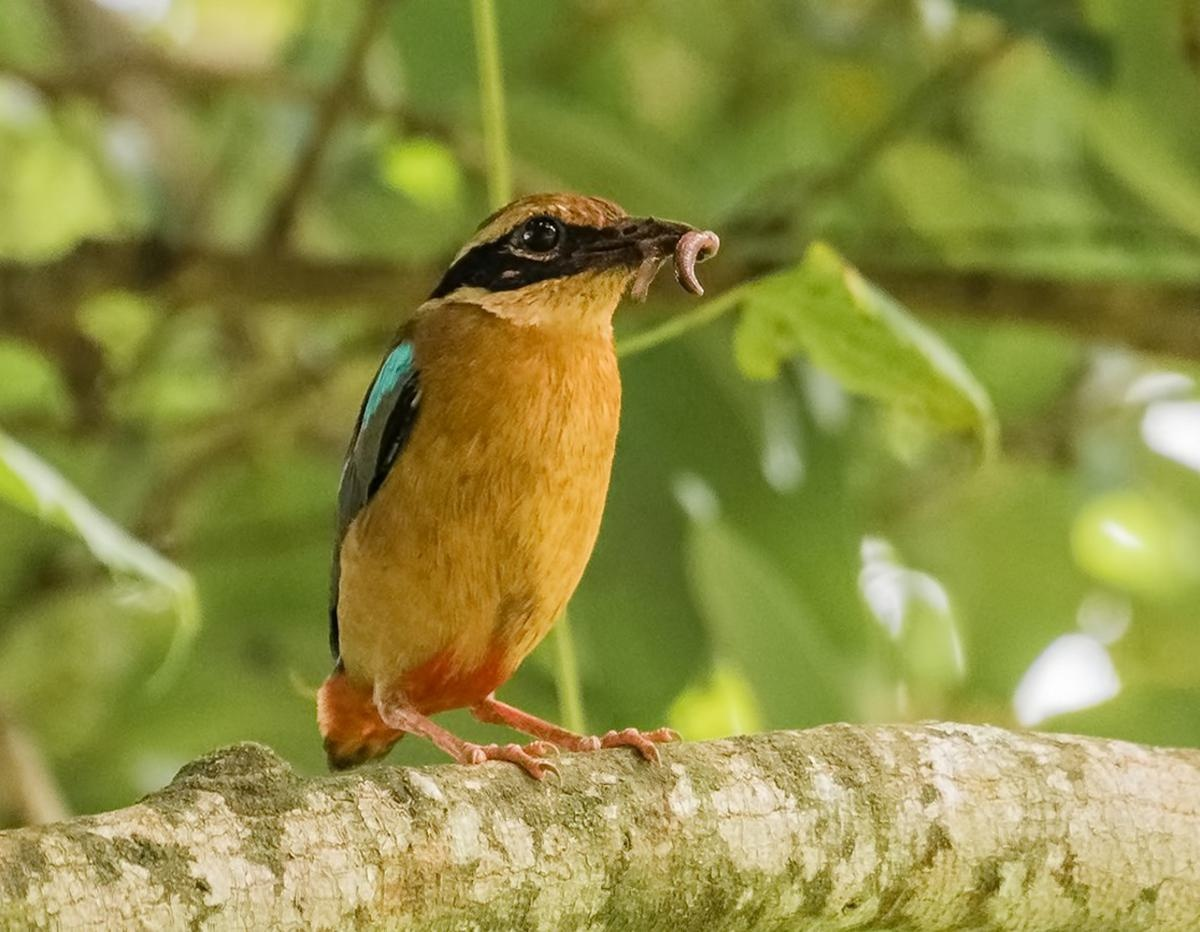pitta: (293, 167, 712, 805)
